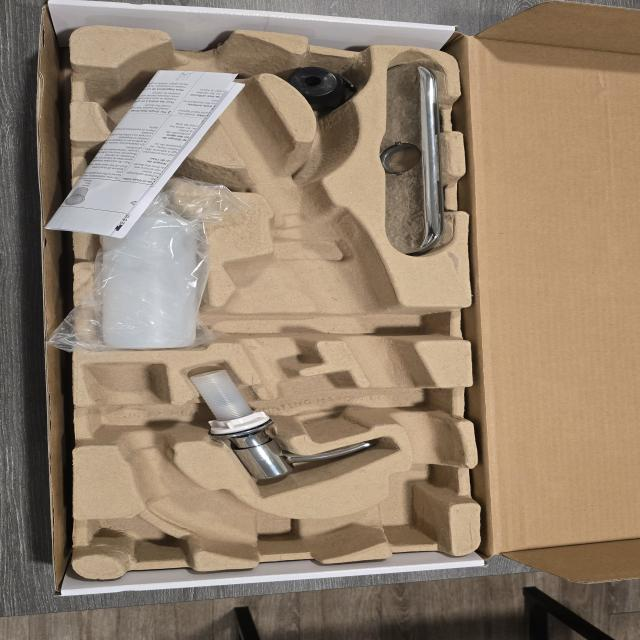1m: (87, 29, 456, 557)
2: (189, 369, 372, 481)
3o: (95, 187, 203, 348)
4: (379, 64, 447, 254)
5: (288, 66, 356, 113)
6m: (83, 51, 191, 124)
7m: (92, 134, 199, 178)
8: (43, 68, 245, 238)
